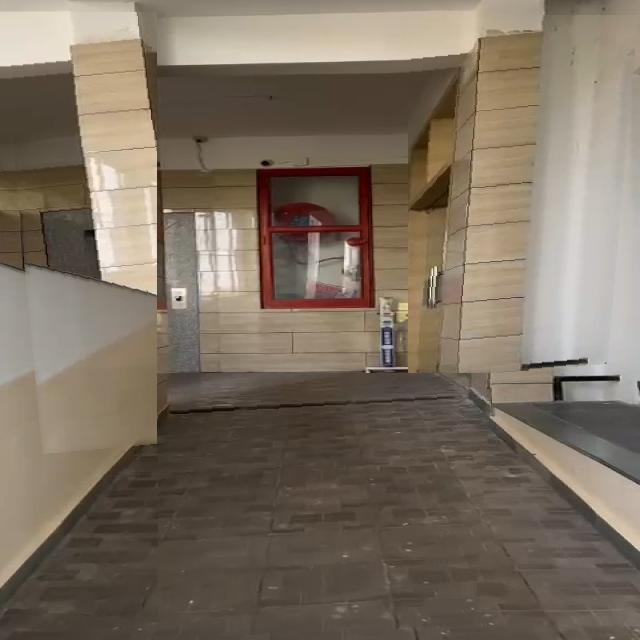floor: (158, 373, 494, 640)
wall: (408, 15, 640, 383), (0, 12, 157, 454)
